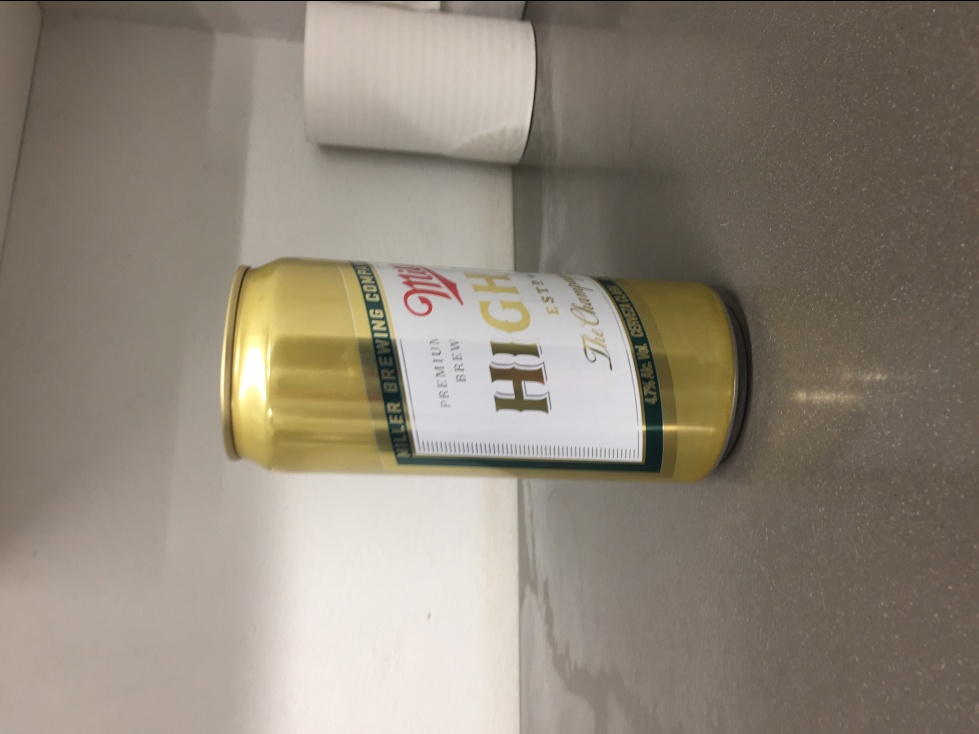miller: (218, 253, 754, 490)
